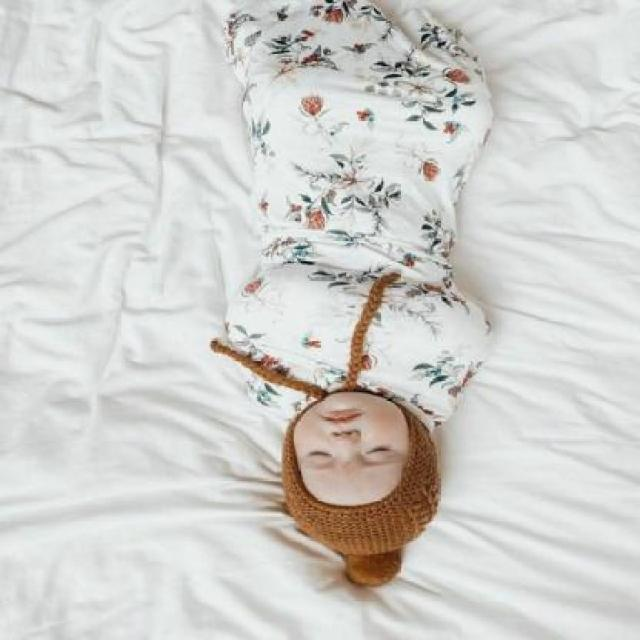baby: (222, 1, 492, 588)
